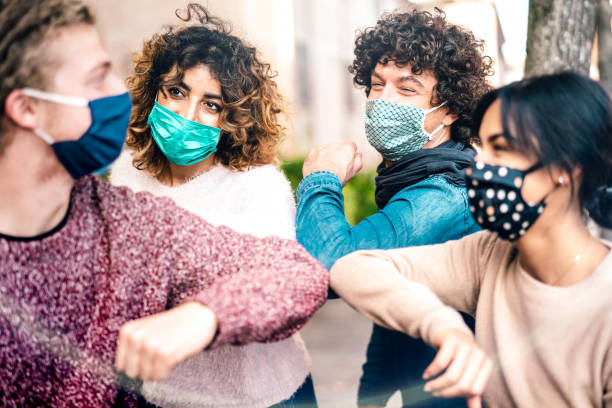with mask: (1, 1, 135, 179), (465, 96, 602, 244), (363, 34, 466, 158), (143, 39, 228, 171)
